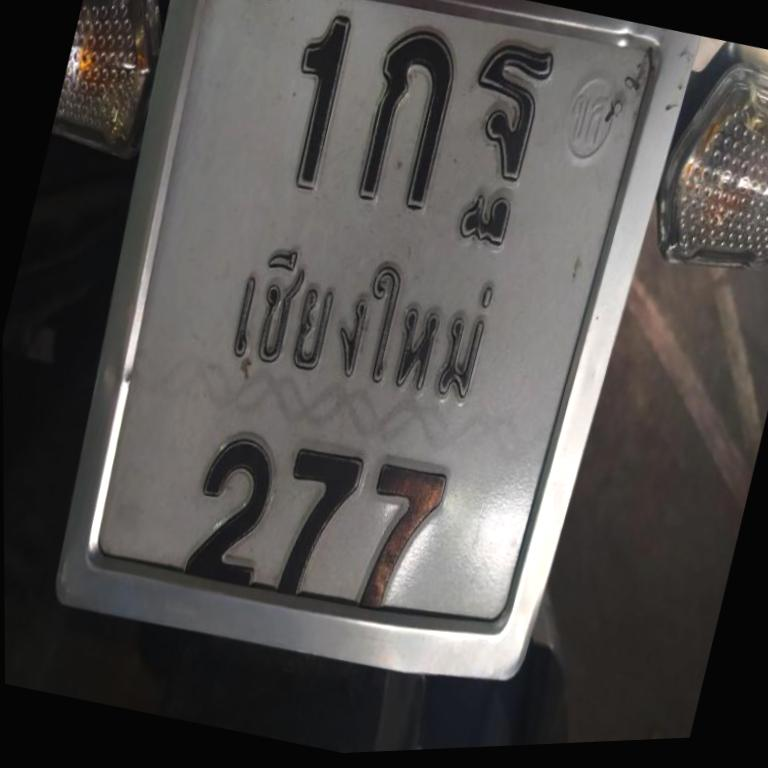license plate: (9, 0, 709, 734)
